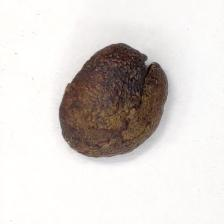NG: (91, 42, 168, 131)
